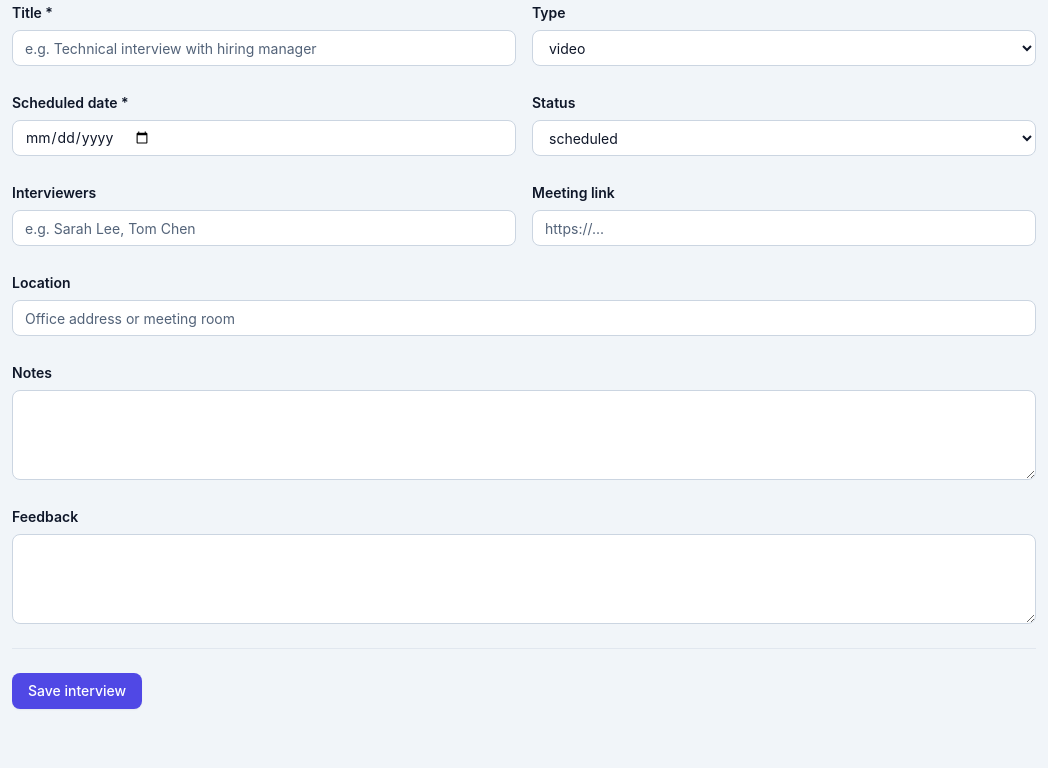
Test: InterviewForm › validates meeting link format if provided
This screenshot has width=1048, height=768.
Type "Technical Screen" into the field labelled "Title *" at (264, 48), box [12,30,516,66]
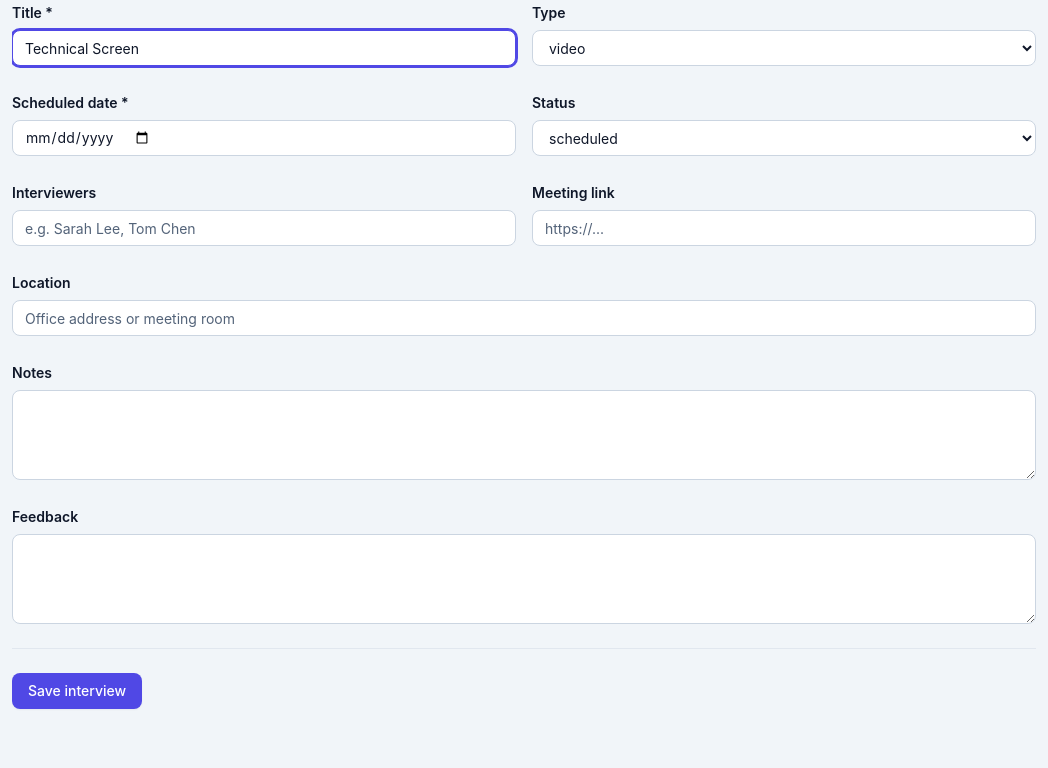
Type "2026-09-20" into the date field labelled "Scheduled date *" at (264, 138), box [12,120,516,156]
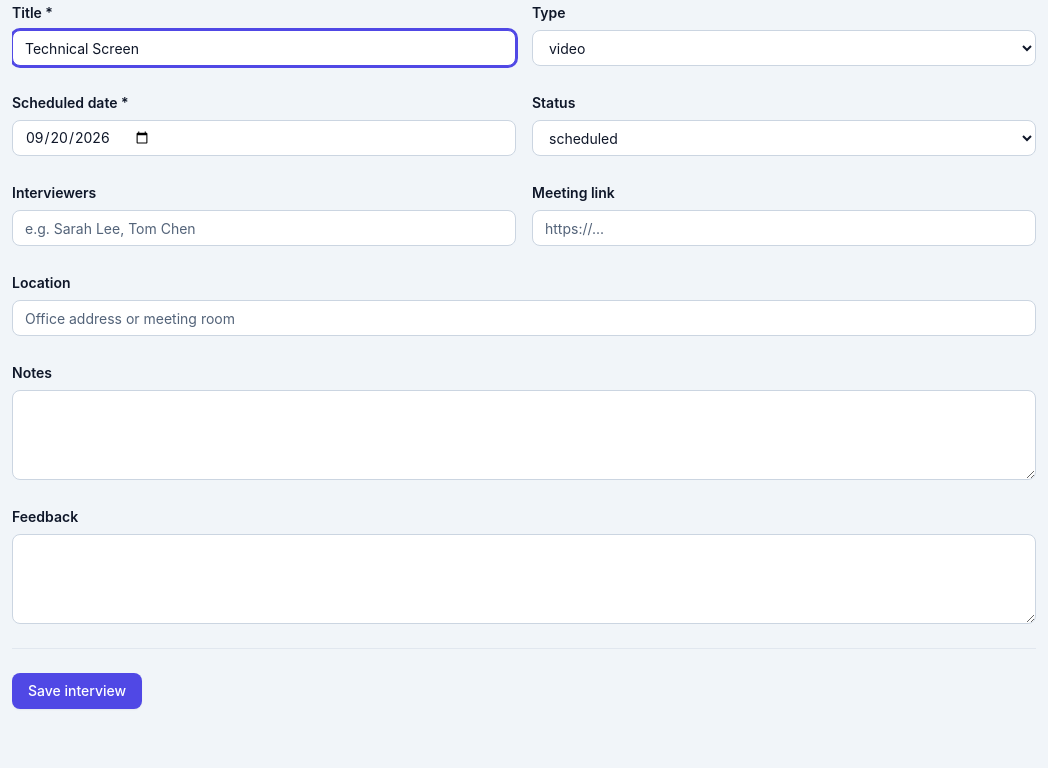
Type "not-a-valid-url" into the field labelled "Meeting link" at (784, 228), box [532,210,1036,246]
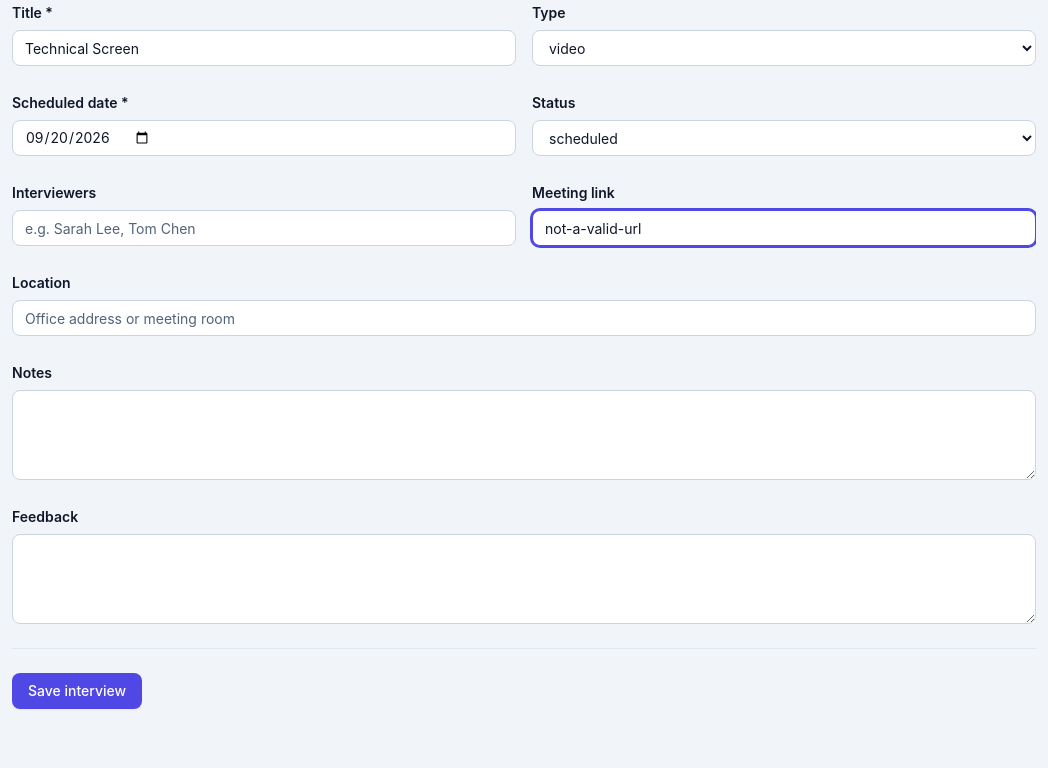
Click the button "Save interview" at (77, 691), box [12,673,142,709]
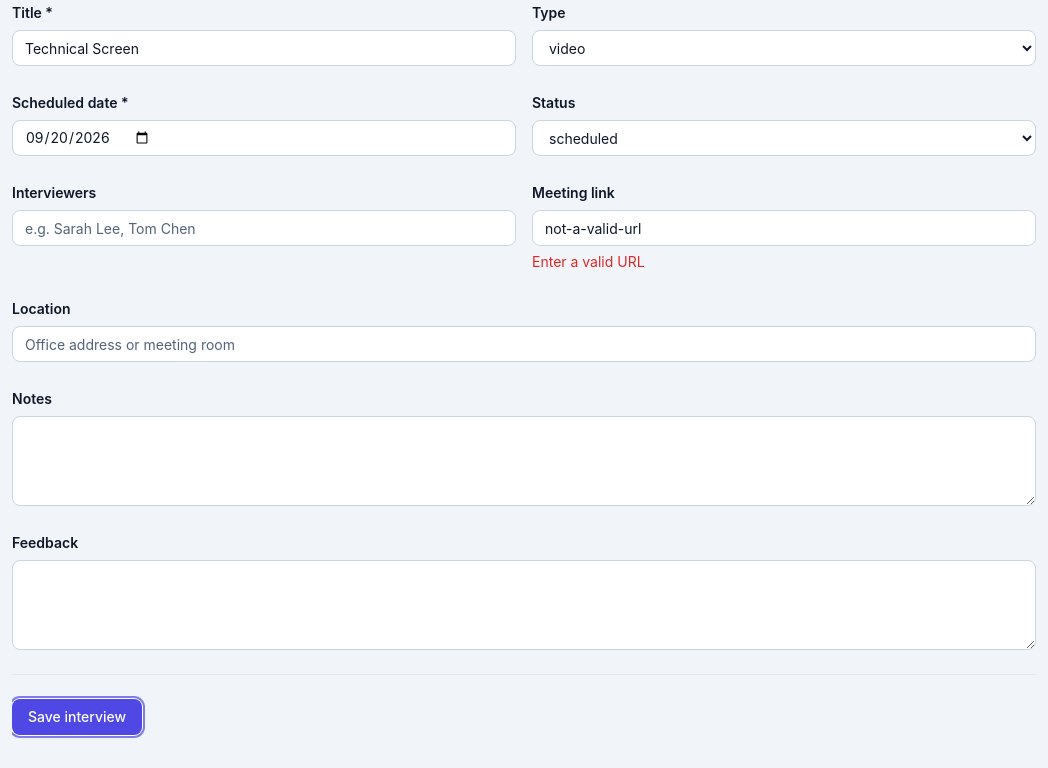
expect the text "Enter a valid URL" is shown: met, box [532,253,645,270]
